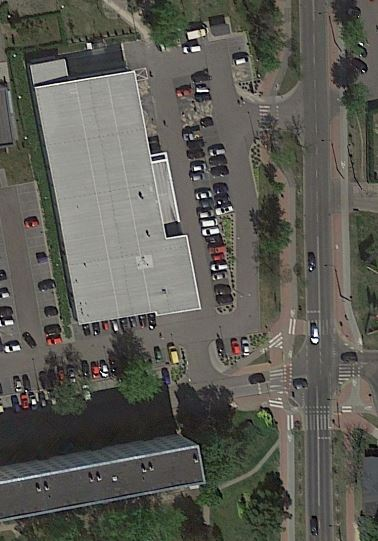block of flats: (1, 422, 225, 531)
shopping_center: (20, 44, 222, 332)
